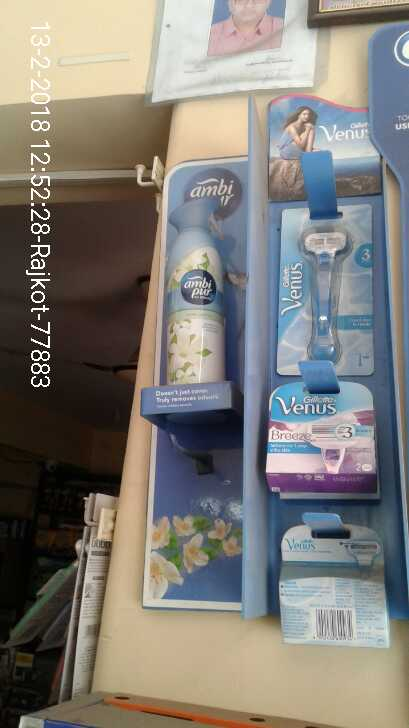beauty: (261, 377, 387, 497), (285, 219, 364, 366)
home: (162, 184, 231, 390)
